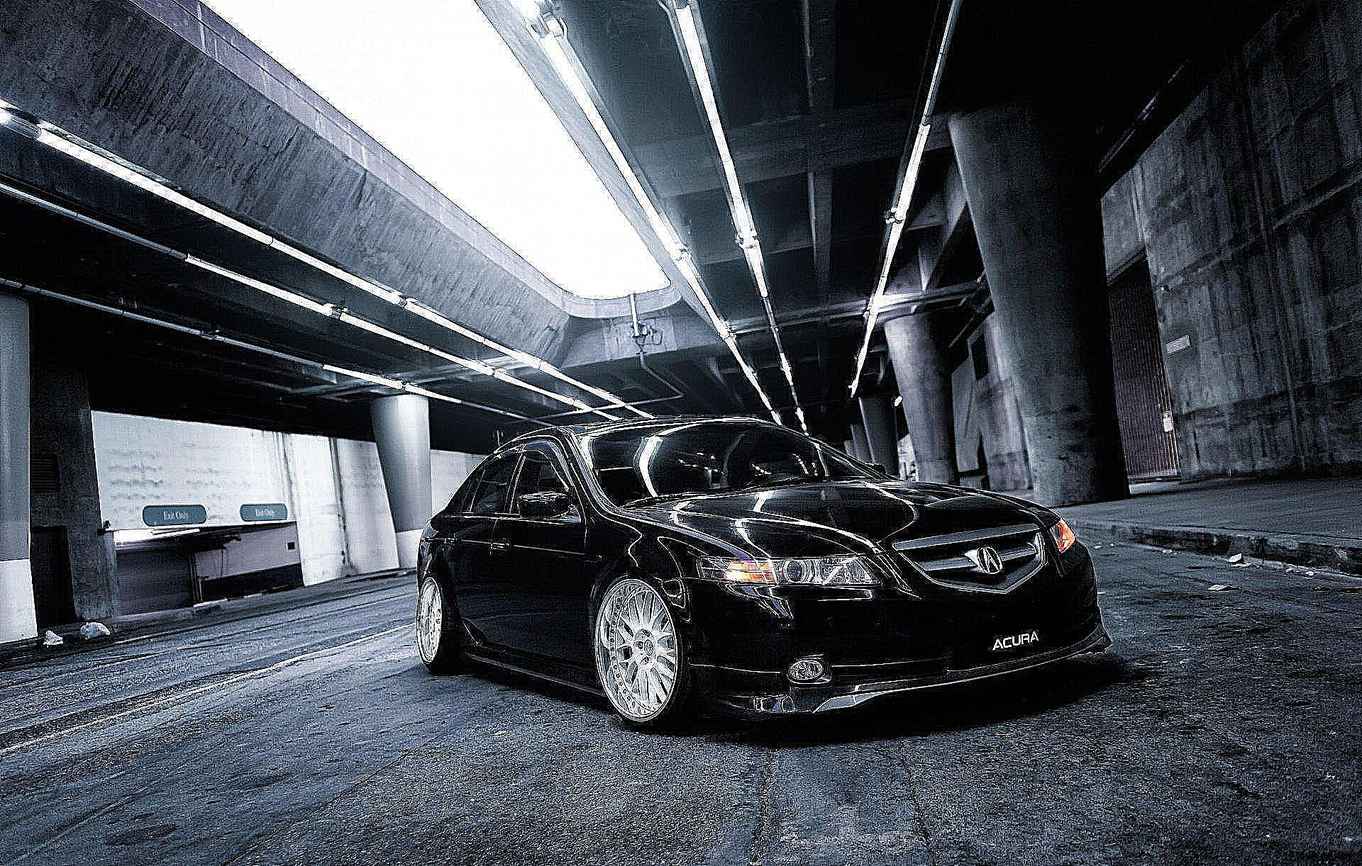Car hood: (620, 469, 1051, 546)
Driver-s door - -F-R-: (489, 431, 595, 697)
Fender - -F-R-: (584, 495, 674, 629)
Fender - -R-R-: (398, 501, 458, 608)
Front bumper: (675, 553, 1122, 746)
Headlight - -L-: (1046, 516, 1077, 555)
Headlight - -R-: (694, 551, 886, 586)
Passenger-s door - -R-R-: (436, 430, 528, 667)
Side bumper - -R-: (444, 633, 615, 729)
Side mirror - -R-: (519, 490, 577, 524)
